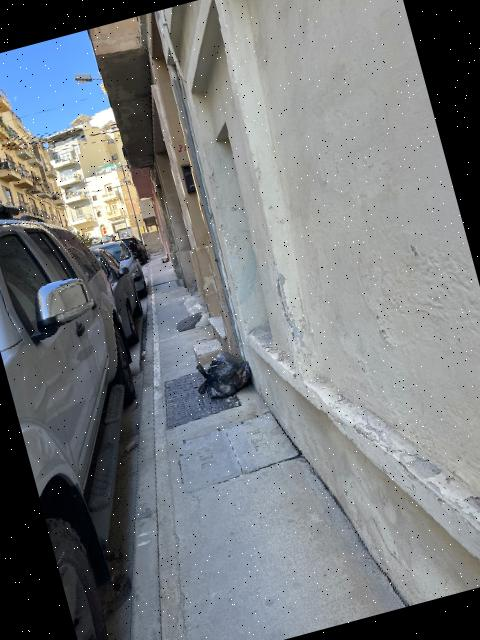Mixed -Black-: (196, 353, 251, 399)
